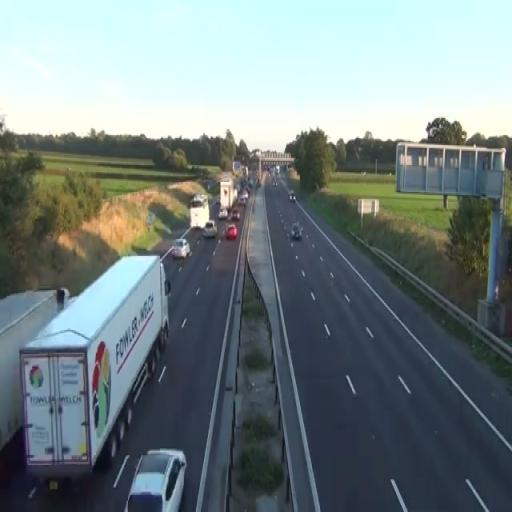Car: (124, 448, 188, 512), (172, 238, 190, 260), (204, 220, 217, 238), (291, 221, 302, 240), (226, 224, 238, 240)
Truck: (19, 254, 170, 487), (220, 178, 236, 210)
